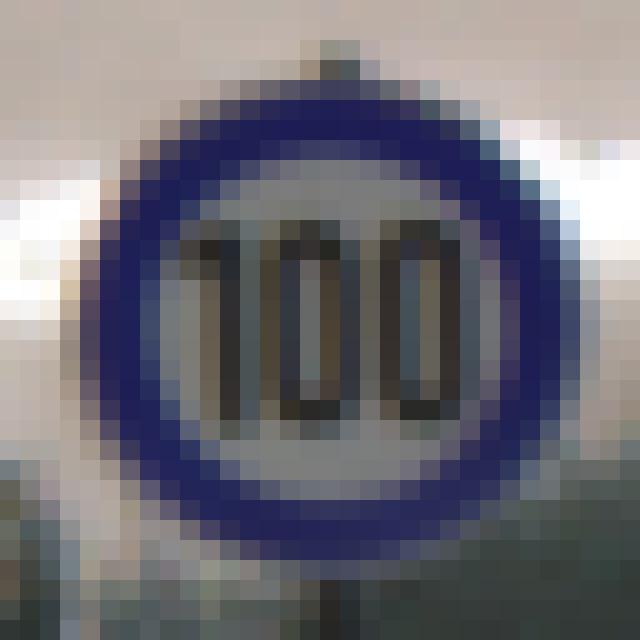SPEED LIMIT 100: (69, 69, 581, 564)
